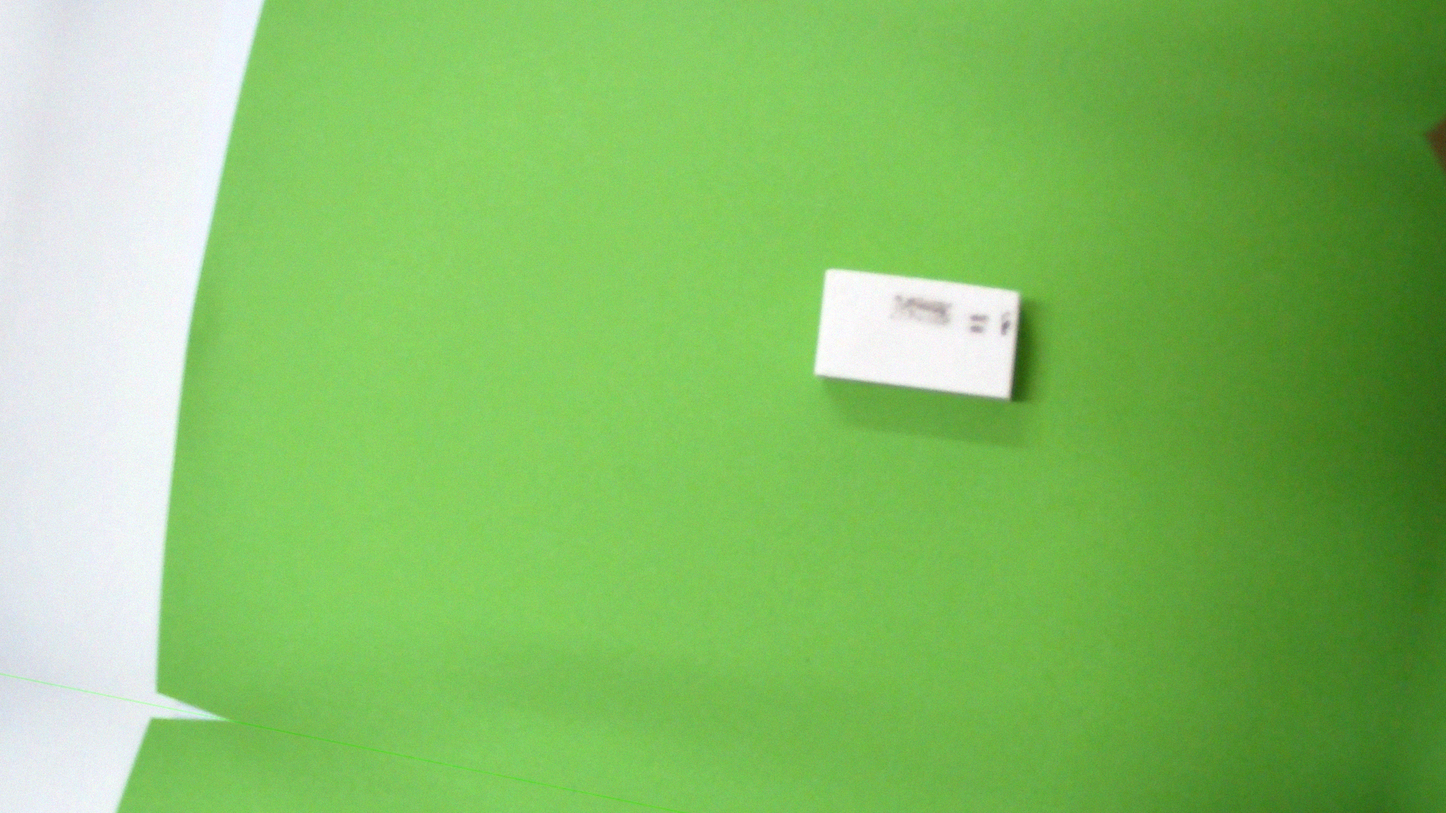gom: (802, 241, 1037, 425)
